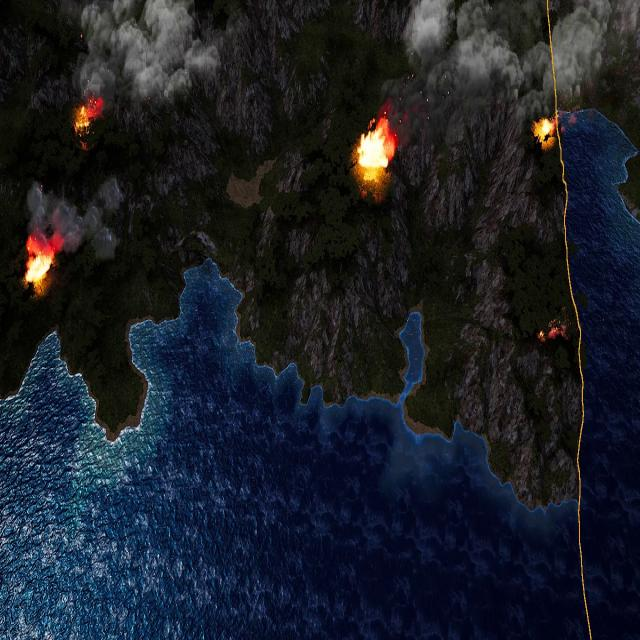fire: (357, 118, 395, 182), (26, 245, 56, 288), (74, 97, 104, 136), (537, 322, 565, 346), (534, 117, 555, 142), (538, 328, 544, 342)
smoke: (377, 0, 553, 123), (66, 0, 235, 103), (550, 0, 637, 110), (27, 178, 124, 261)
